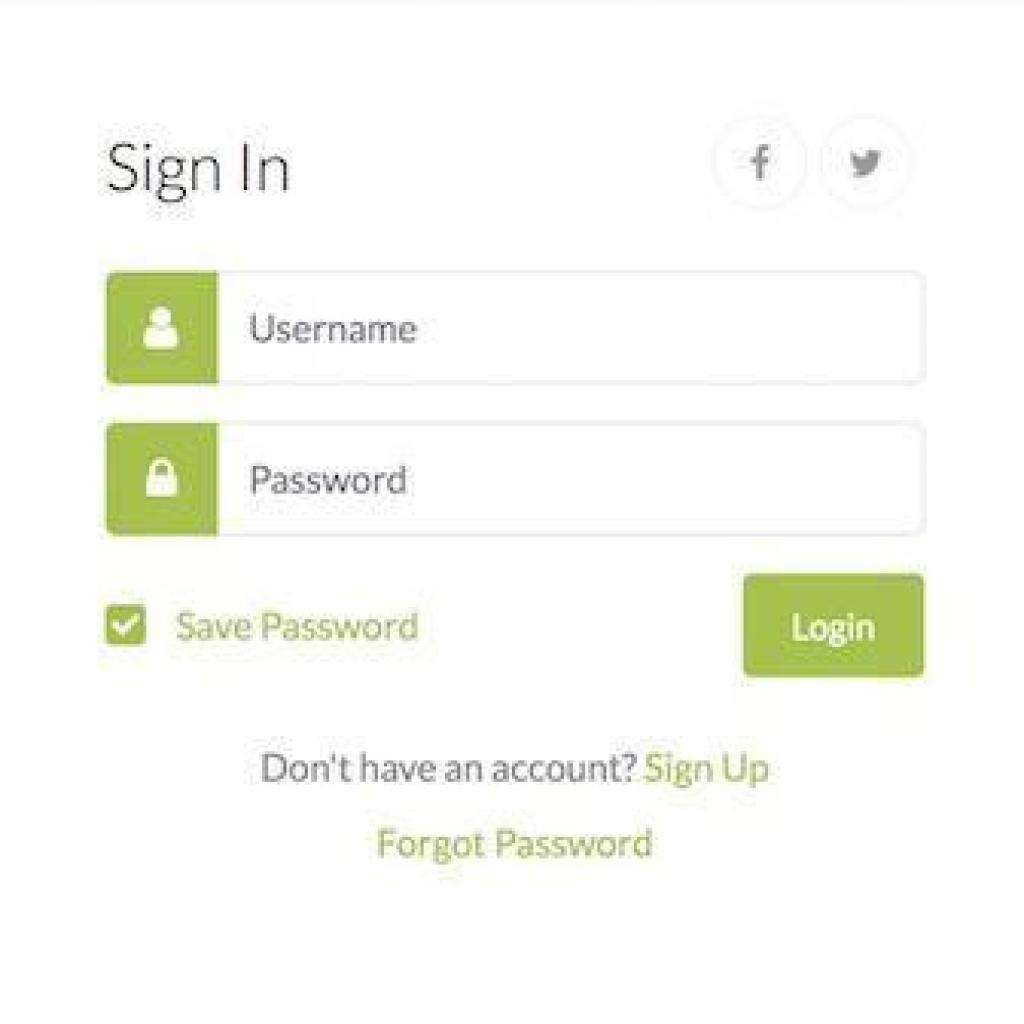button: (744, 573, 926, 681)
checkbox: (104, 601, 149, 647)
icon: (140, 304, 180, 350), (143, 457, 180, 500)
input: (214, 414, 926, 539), (214, 264, 930, 386)
label: (262, 745, 780, 791), (104, 138, 298, 208), (375, 824, 658, 868), (174, 604, 426, 647)
